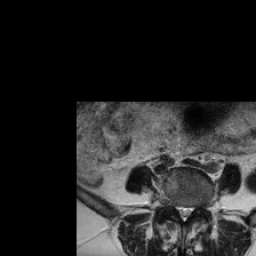CCS_normal: (181, 197, 187, 227)
LFS_severe_stenosis: (193, 195, 201, 217)
LLS_stenosis: (187, 198, 194, 220)
RFS_stenosis: (167, 191, 173, 215)
RLS_stenosis: (173, 194, 181, 220)
